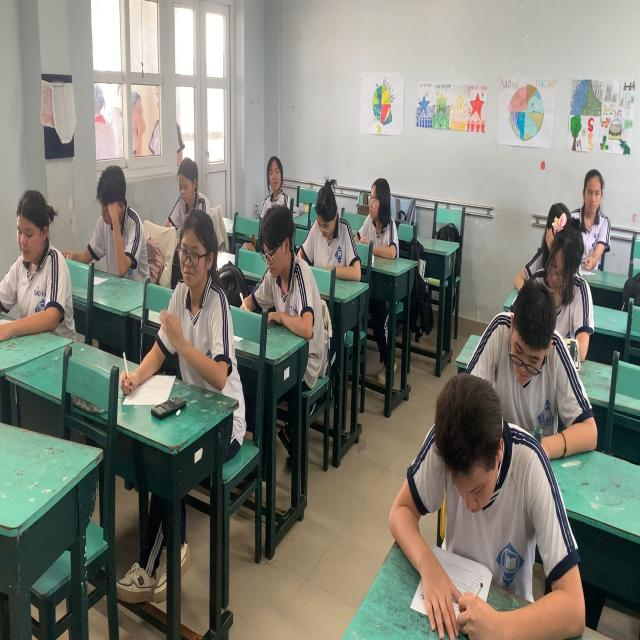not_cheating: (390, 384, 566, 637), (492, 288, 577, 471), (155, 216, 241, 384), (0, 188, 68, 336), (254, 201, 320, 336), (84, 160, 150, 287), (538, 212, 595, 354), (303, 167, 359, 284), (575, 143, 614, 271), (346, 174, 398, 260), (158, 150, 214, 215), (252, 146, 294, 222)
